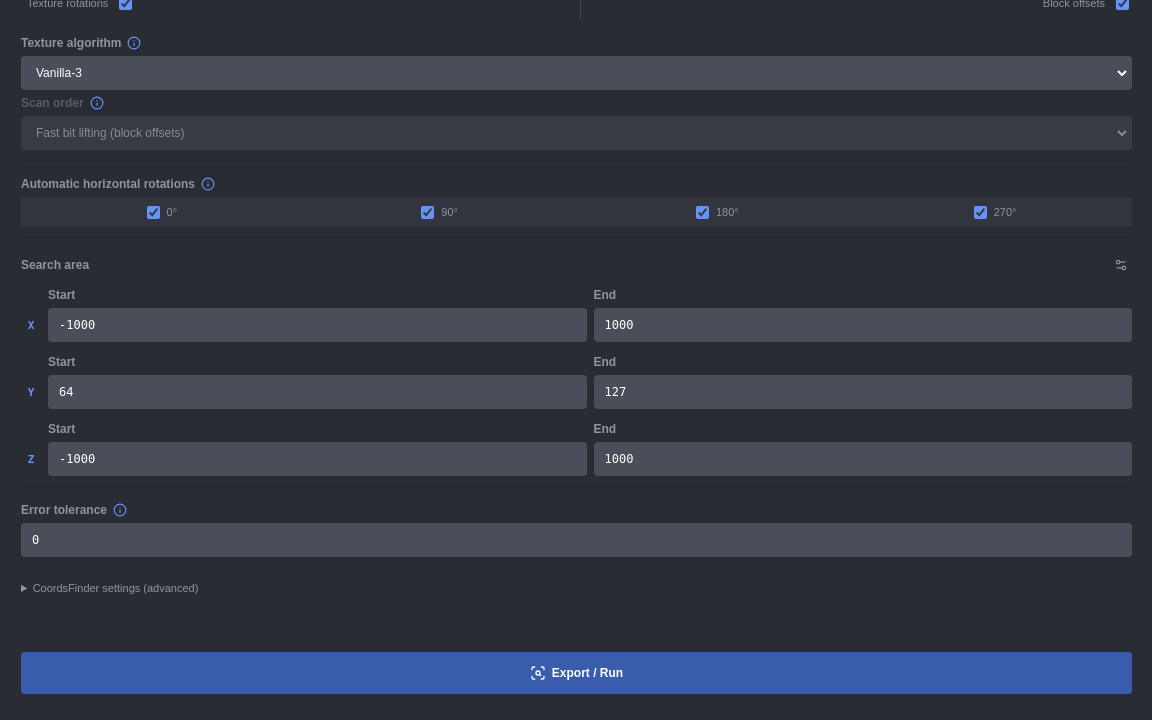
Test case: Export / Run workspace › describes the effective offset search without counting unused Y or ignored observations
(page scrolled)
Click the button "Export / Run".
click(576, 673)  # box [21,652,1132,694]
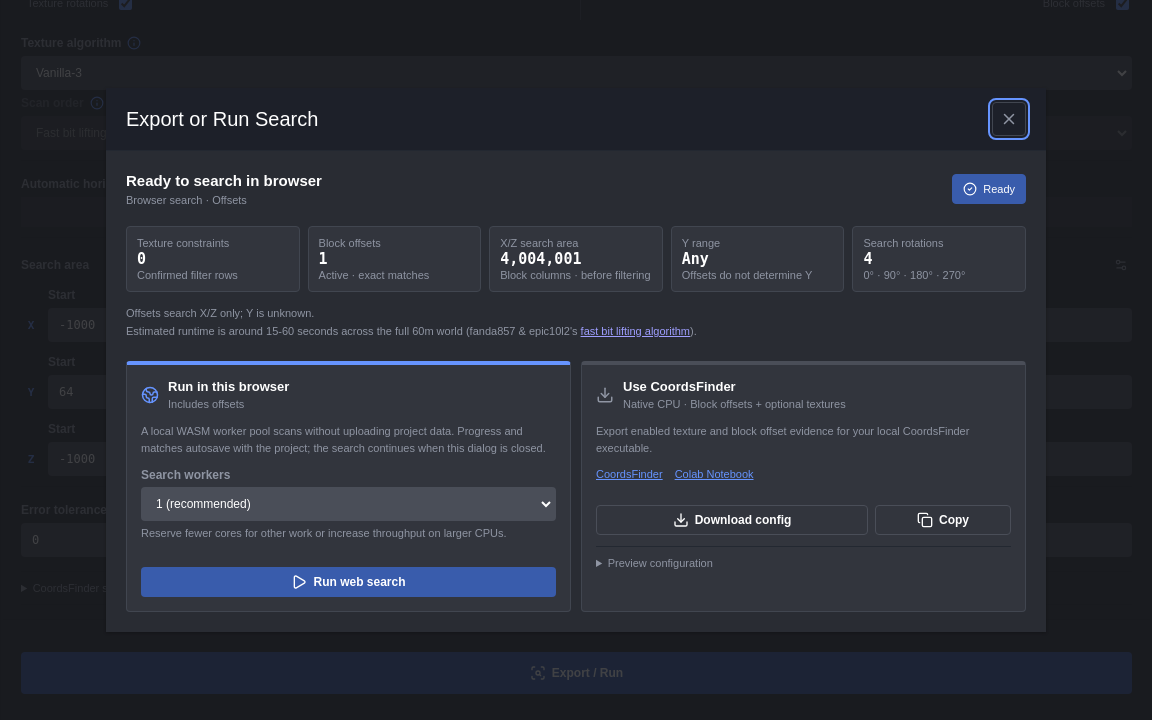
Now the text "Browser search · Offsets" is shown, box [126,194,247,206]
Now the button "Run web search" is enabled, box [141,567,556,597]
Now the button "Download config" is enabled, box [596,505,868,535]
